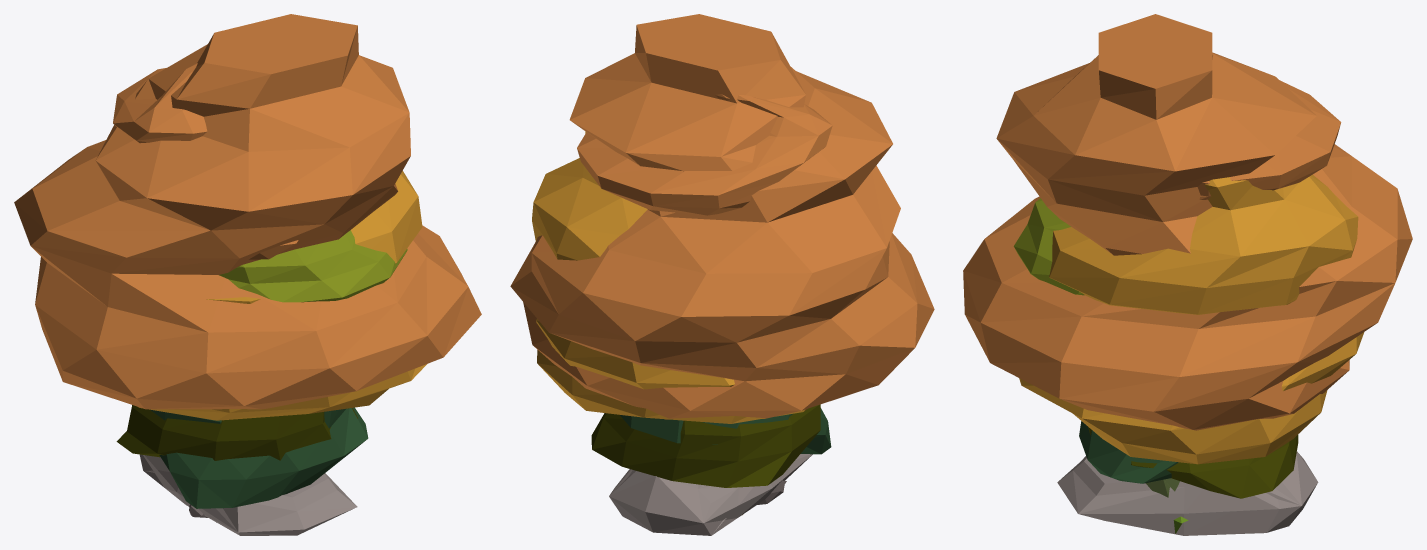
Rendered from Vegetation.fbx.
3 renders of one model, left to right at view 1: azimuth 30°, elevation 25°; view 2: azimuth 150°, elevation 25°; view 3: azimuth 270°, elevation 25°, orthographic. The views are drawn at different scales.
Visible parts, largest first — view 1: tree_small4, tree_small1, tree_small2, tree_tall5, tree_small3, rock_l, tree_tall2; view 2: tree_small4, tree_small3, tree_tall2, tree_small2, rock_l, tree_small1; view 3: tree_small4, tree_small3, rock_l, tree_tall2, tree_small2, tree_tall5, tree_small1.
Boxes of the visible parts, x1,y1,x2,y2 form: tree_small4: (14,14,481,409); tree_small1: (150,407,368,508); tree_small2: (116,405,357,460); tree_tall5: (219,230,407,302); tree_small3: (138,171,426,420); rock_l: (139,454,357,535); tree_tall2: (113,63,298,259); tree_small4: (510,14,934,419); tree_small3: (532,131,807,423); tree_tall2: (577,94,832,515); tree_small2: (591,404,820,487); rock_l: (609,454,812,535); tree_small1: (620,408,831,454); tree_small4: (963,14,1412,430); tree_small3: (1019,174,1364,464); rock_l: (1057,451,1318,535); tree_tall2: (1197,54,1341,199); tree_small2: (1088,427,1298,498); tree_tall5: (1013,198,1084,295); tree_small1: (1079,421,1178,483).
Bounding box in the file's own units: 571 × 643 × 557.
